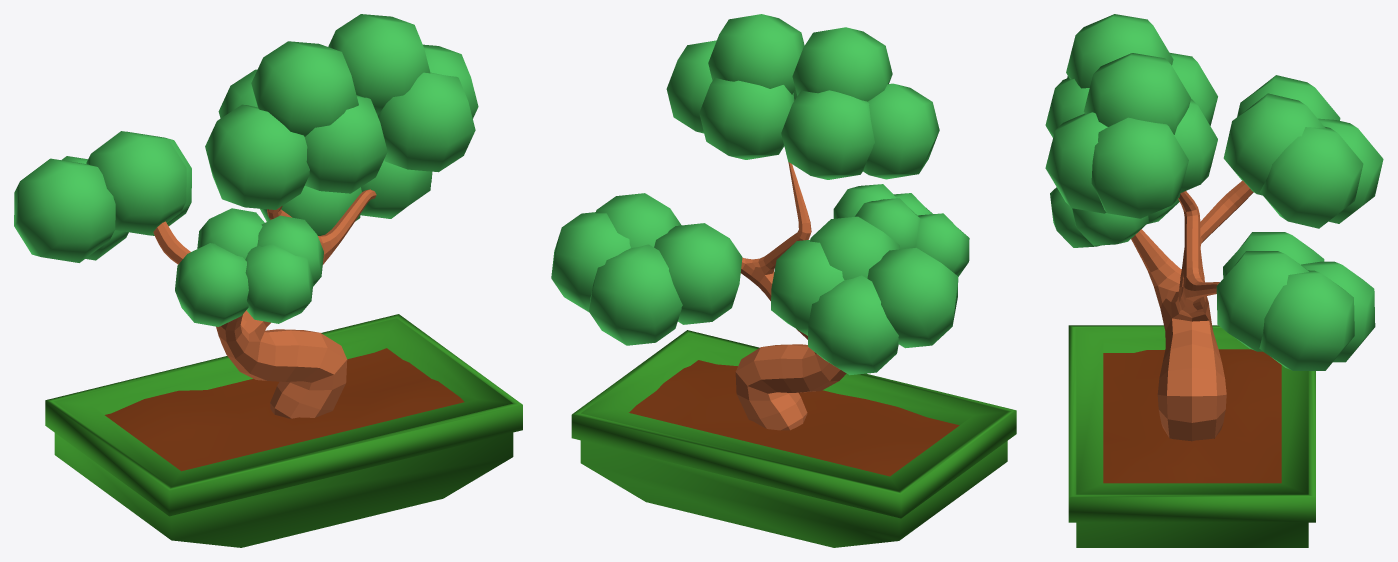
The model's file is bonsai.fbx.
3 views of the same model, side by side, from view 1: azimuth 30°, elevation 25°; view 2: azimuth 150°, elevation 25°; view 3: azimuth 270°, elevation 25° (orthographic). The views are drawn at different scales.
Visible parts, largest first — view 1: Cube, Plane, Cube.001, Cube.007, Cube.015, Cube.014, Cube.012, Cube.005, Cube.018, Cube.017, Cube.019, Cube.021 (+6 smaller); view 2: Cube, Plane, Cube.001, Cube.008, Cube.016, Cube.006, Cube.007, Cube.003, Cube.013, Cube.014, Cube.018, Cube.015 (+8 smaller); view 3: Cube, Plane, Cube.001, Cube.011, Cube.010, Cube.004, Cube.018, Cube.005, Cube.009, Cube.014, Cube.012, Cube.008 (+8 smaller).
Part boxes in pixels (bbox=[...]): Cube: bbox=[45, 314, 522, 547]; Plane: bbox=[105, 348, 464, 471]; Cube.001: bbox=[153, 189, 376, 418]; Cube.007: bbox=[14, 158, 115, 262]; Cube.015: bbox=[205, 104, 309, 209]; Cube.014: bbox=[251, 41, 358, 136]; Cube.012: bbox=[378, 72, 475, 172]; Cube.005: bbox=[86, 131, 186, 235]; Cube.018: bbox=[328, 14, 430, 115]; Cube.017: bbox=[304, 95, 387, 193]; Cube.019: bbox=[175, 243, 248, 326]; Cube.021: bbox=[245, 244, 313, 323]; Cube: bbox=[571, 330, 1016, 547]; Plane: bbox=[629, 360, 959, 476]; Cube.001: bbox=[735, 162, 846, 430]; Cube.008: bbox=[589, 244, 682, 345]; Cube.016: bbox=[781, 90, 874, 179]; Cube.006: bbox=[808, 275, 898, 375]; Cube.007: bbox=[867, 248, 958, 348]; Cube.003: bbox=[654, 223, 742, 324]; Cube.013: bbox=[699, 78, 794, 159]; Cube.014: bbox=[792, 27, 892, 101]; Cube.018: bbox=[708, 14, 804, 94]; Cube.015: bbox=[863, 83, 939, 179]; Cube: bbox=[1068, 325, 1315, 547]; Plane: bbox=[1103, 349, 1281, 483]; Cube.001: bbox=[1131, 180, 1253, 441]; Cube.011: bbox=[1091, 117, 1188, 218]; Cube.010: bbox=[1259, 270, 1354, 370]; Cube.004: bbox=[1260, 126, 1363, 228]; Cube.018: bbox=[1083, 53, 1191, 134]; Cube.005: bbox=[1223, 93, 1325, 195]; Cube.009: bbox=[1216, 251, 1308, 351]; Cube.014: bbox=[1066, 14, 1173, 88]; Cube.012: bbox=[1045, 112, 1107, 213]; Cube.008: bbox=[1301, 261, 1375, 362].
Bounding box in the file's own units: 415 × 442 × 291.
